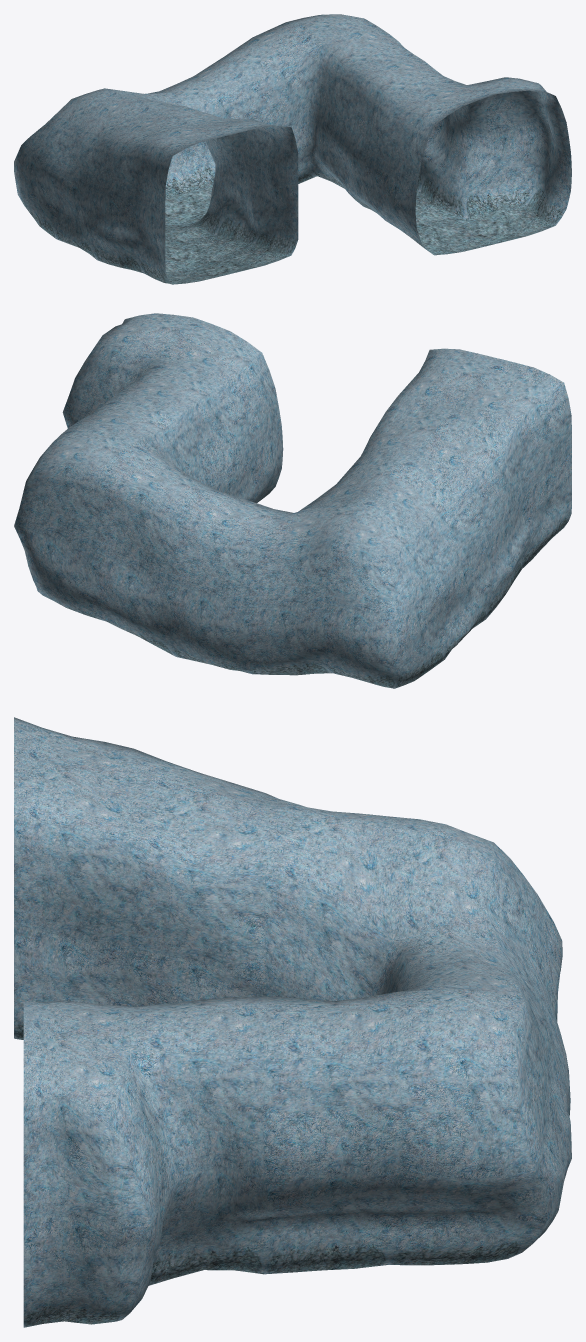
File: thm_all_cave_flatland_s03_ice_r12_r12.fbx
The picture shows the model from 3 angles, top to bottom: view 1: azimuth 30°, elevation 25°; view 2: azimuth 150°, elevation 25°; view 3: azimuth 270°, elevation 25°; orthographic projection. The views are drawn at different scales.
Parts seen in each view (by area): view 1: mesh_node; view 2: mesh_node; view 3: mesh_node.
Part boxes in pixels (bbox=[...]): mesh_node: bbox=[14, 14, 571, 284]; mesh_node: bbox=[14, 313, 571, 688]; mesh_node: bbox=[14, 717, 571, 1327].
Size of the model in its own units: 50.31 by 22.47 by 33.73.
